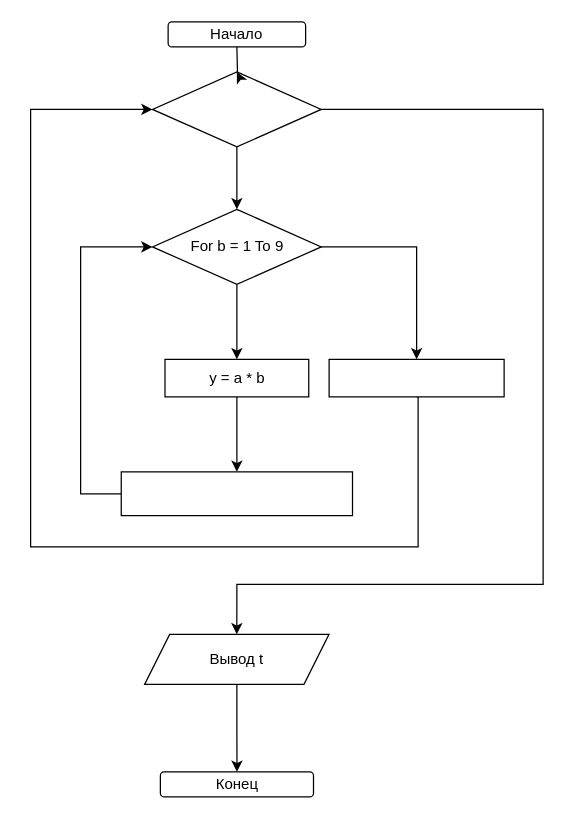
This 575x819 diagram has some shape labels left out. The centre of each missing label's shape, as x and y in pixels:
For a = 1 To 9: (x=236, y=109)
t = t & a & " * " & b & " = " & y & ", " & vbNewLine: (x=236, y=493)
t = t & Chr(13): (x=416, y=377)
